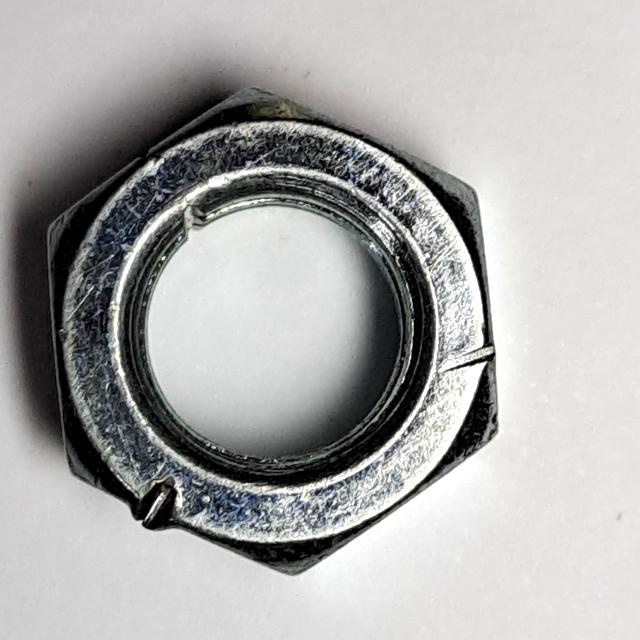Scratches: (38, 79, 514, 586)
